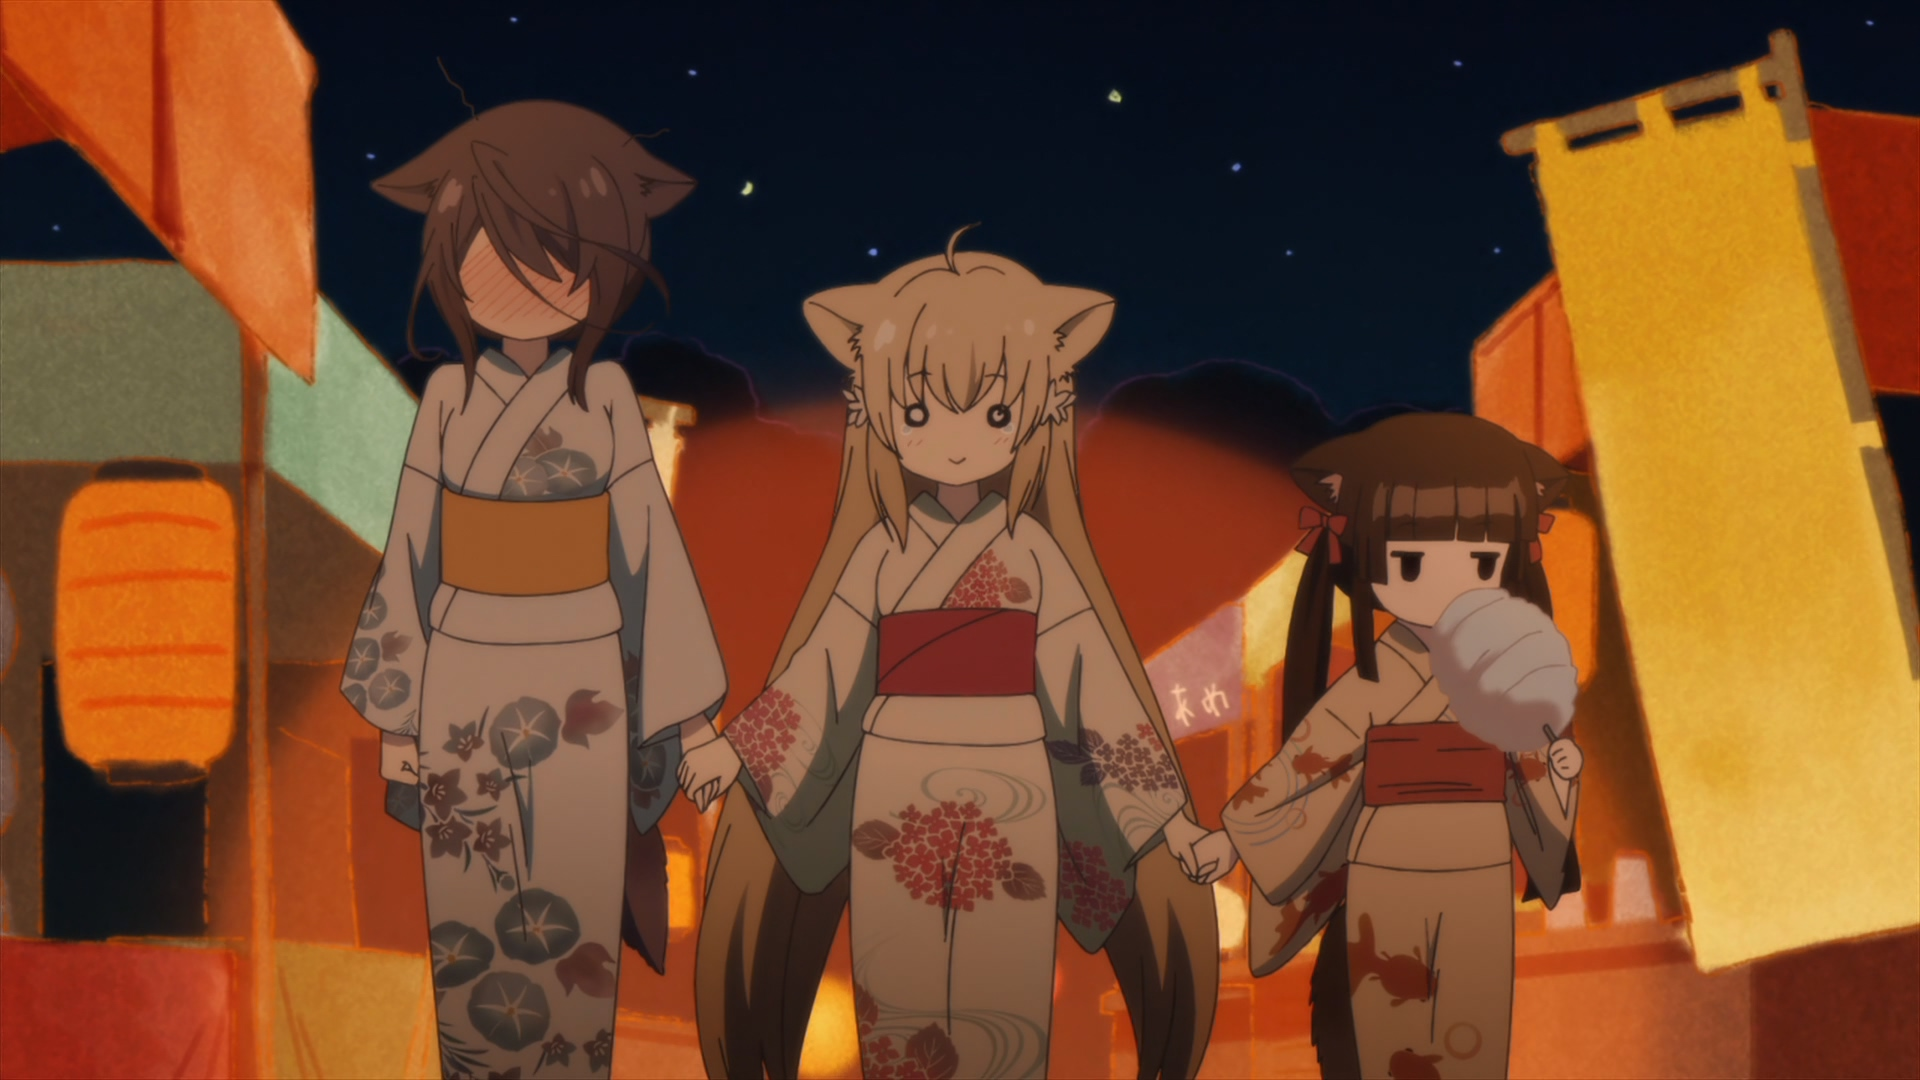柚: (694, 222, 1218, 1080)
樱: (1184, 409, 1582, 1080)
皋: (342, 100, 731, 1080)
